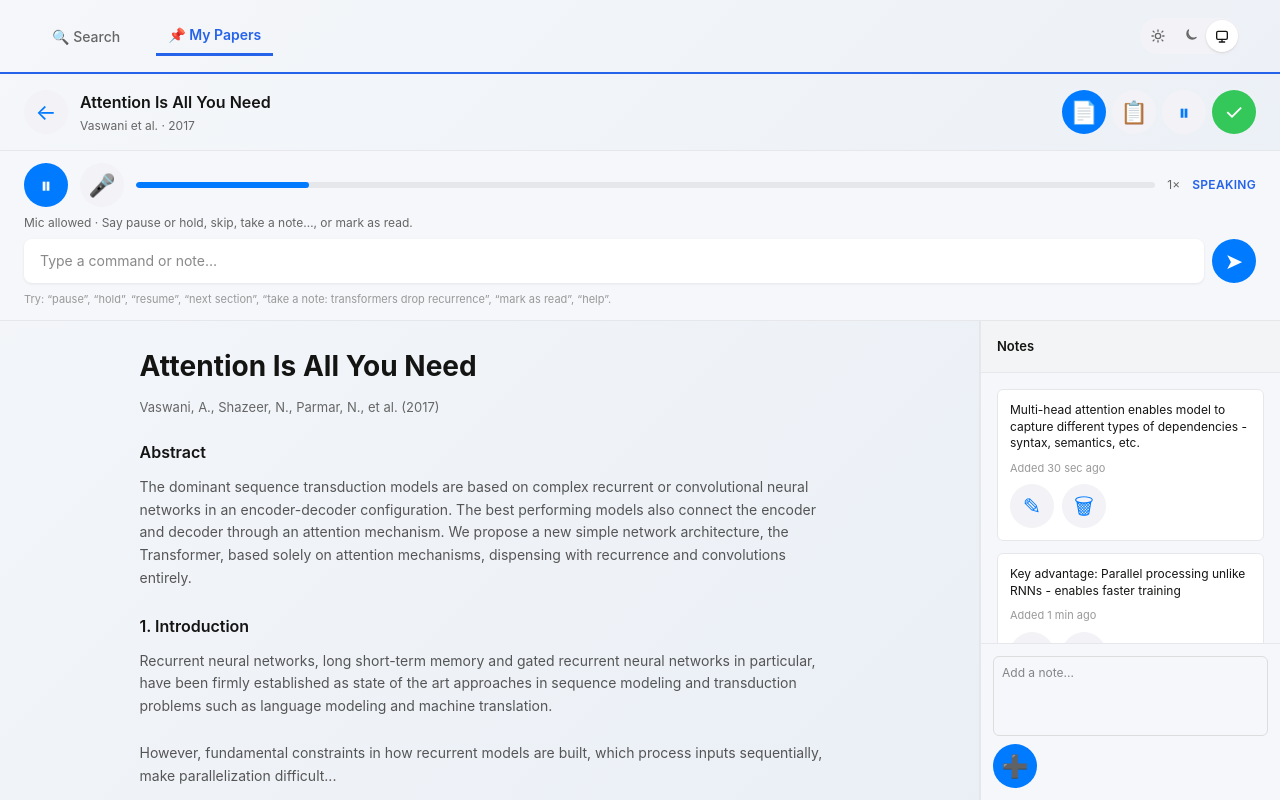
UX: Listen voice partner › When the user types hold, Then reading pauses the same way as pause
Type "hold" into the field with placeholder "Type a command or note…" at (614, 261), box top-left (24, 239), bottom-right (1204, 283)
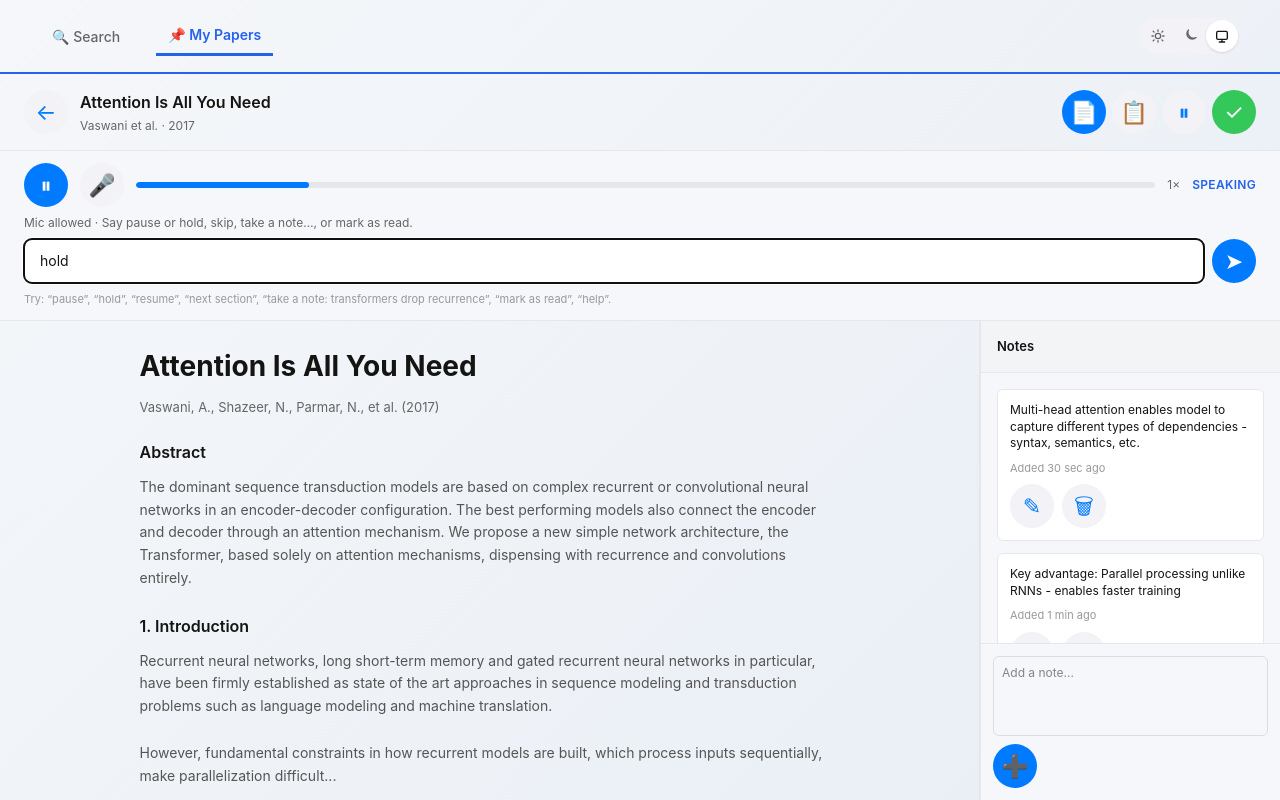
Click the button named "go" at (1234, 261), box top-left (1212, 239), bottom-right (1256, 283)
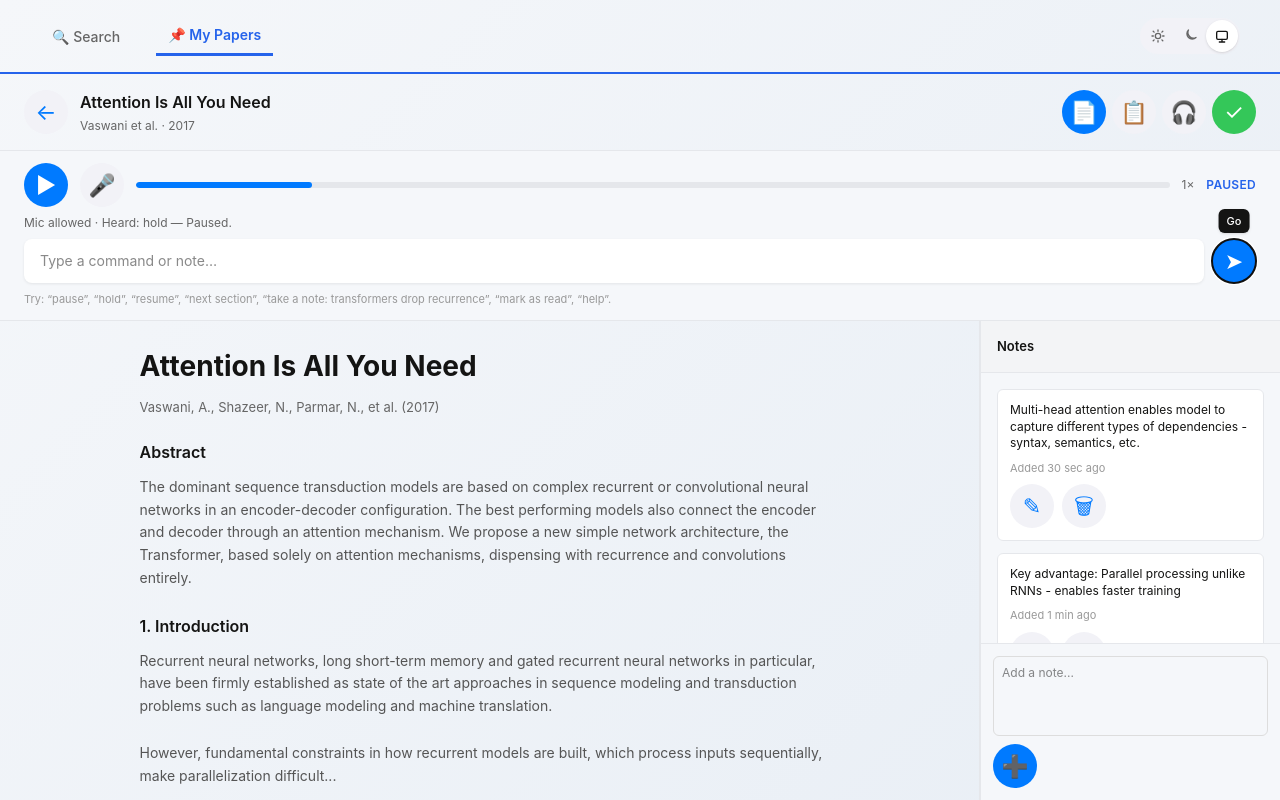
Expected: the text "paused" is shown, top-left (1206, 177), bottom-right (1256, 193)
